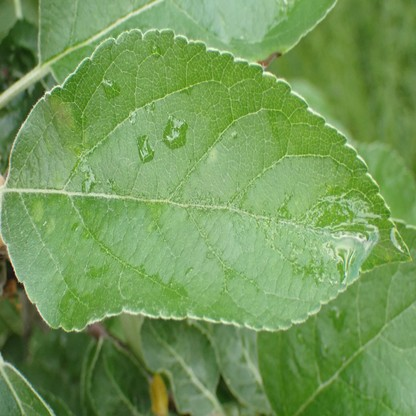frogeye_leaf_spot: (256, 52, 281, 70)
scab: (51, 97, 73, 135), (31, 202, 43, 222), (206, 148, 216, 165), (46, 217, 54, 234)
